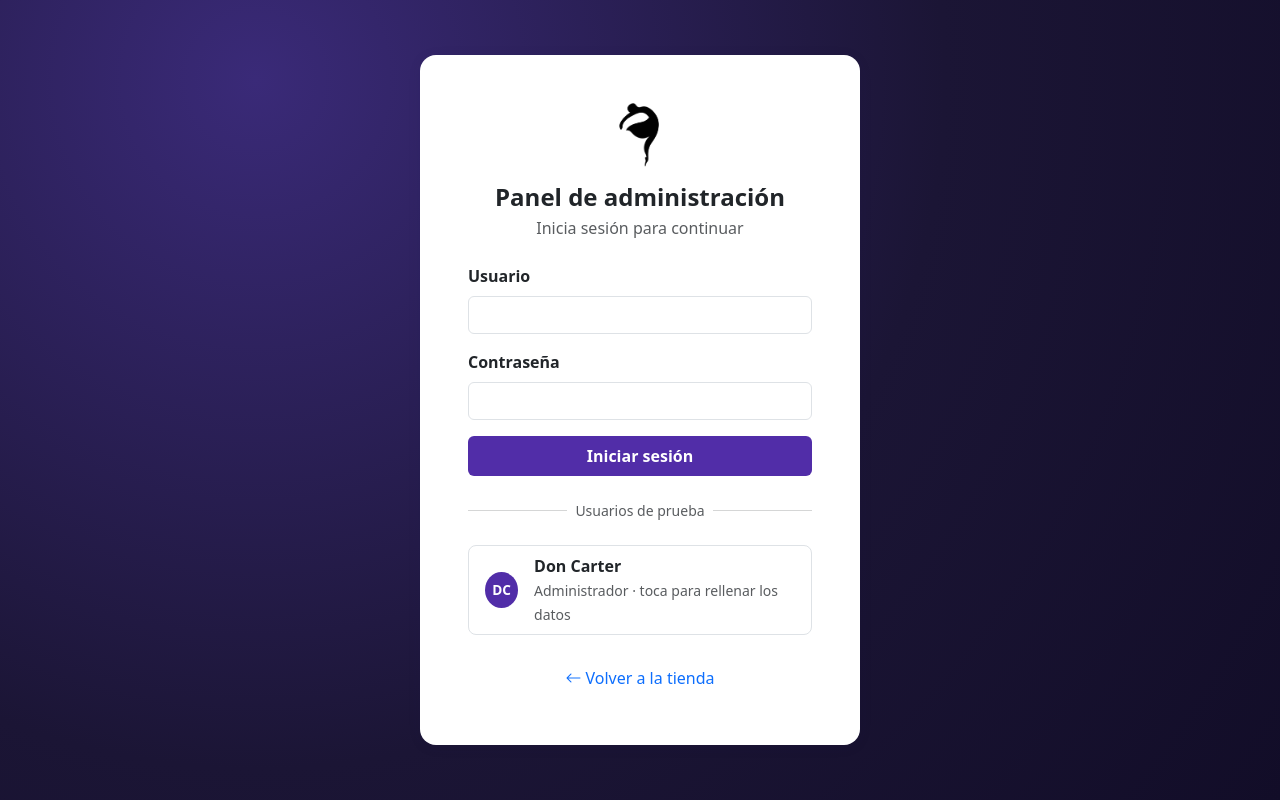
pages/AdminPage (inicio de sesión del panel) › al tocar al usuario de prueba se rellenan usuario y contraseña (sin iniciar sesión sola)
Click the button "DC Don Carter Administrador · toca para rellenar los datos". click: (640, 590)
box: [468,545,812,635]
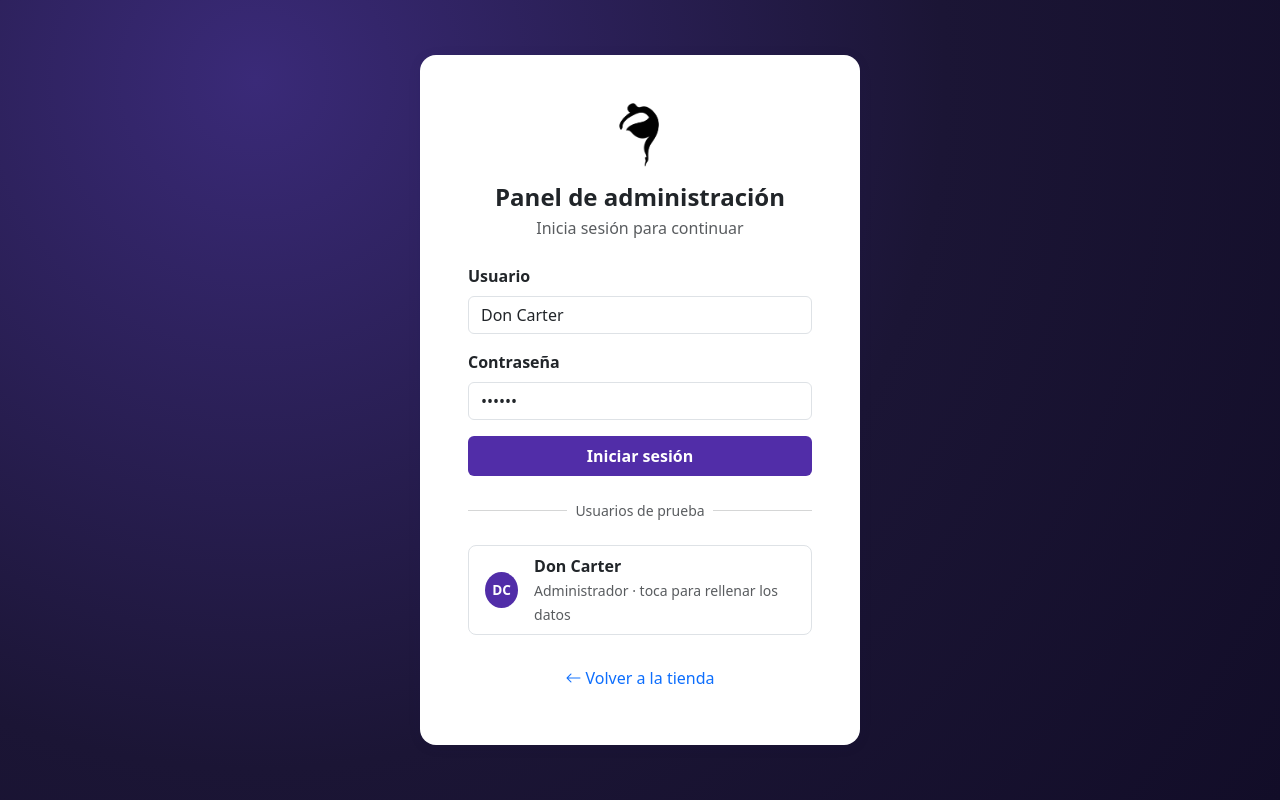
Expected: the field labelled "Usuario" holds "Don Carter", [468,296,812,334]
Expected: the password field labelled "Contraseña" holds "123456", [468,382,812,420]
